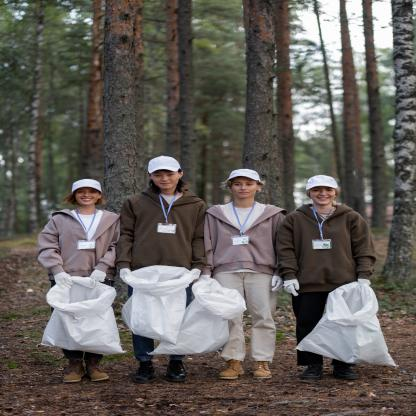Eye: (312, 189, 320, 191), (247, 183, 252, 186), (167, 174, 174, 176), (154, 175, 161, 177), (326, 189, 333, 191), (235, 184, 241, 186), (78, 191, 84, 193), (89, 191, 95, 193)
Mouth: (317, 197, 329, 200), (80, 198, 92, 201), (160, 183, 171, 185), (239, 192, 249, 194)
Nose: (319, 190, 327, 196), (161, 176, 168, 181), (240, 185, 247, 190), (83, 192, 90, 197)
